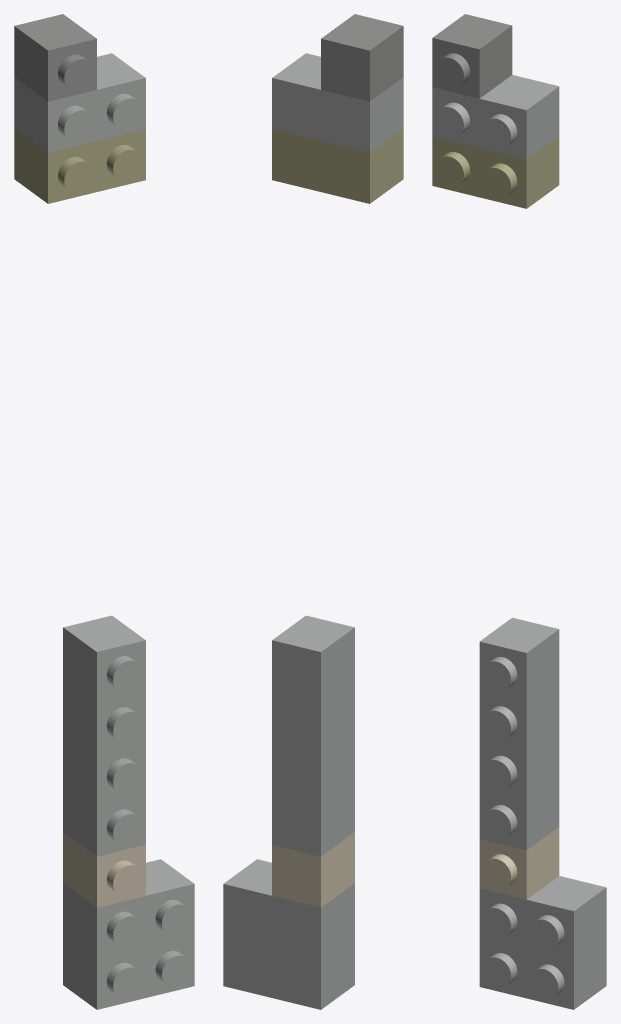
The model's file is current.glb.
3 views of the same model, side by side, from view 1: azimuth 30°, elevation 25°; view 2: azimuth 150°, elevation 25°; view 3: azimuth 330°, elevation 25° (orthographic). The views are drawn at different scales.
Visible parts, largest first — view 1: world; view 2: world; view 3: world.
Boxes of the visible parts, x1,y1,x2,y2 form: world: (14, 14, 194, 1009); world: (223, 14, 403, 1009); world: (432, 14, 606, 1009).
Size of the model in its own units: 24 by 152 by 11.4.
